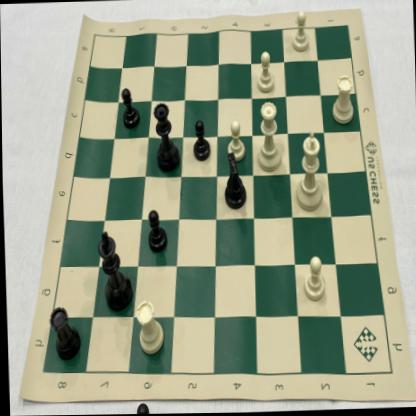black-king: (97, 228, 131, 312)
black-knight: (219, 152, 248, 211)
black-pawn: (119, 86, 142, 130), (144, 208, 167, 251), (191, 120, 212, 163)
black-queen: (151, 99, 181, 173)
black-rook: (47, 303, 78, 362)
white-king: (293, 131, 324, 214)
white-pawn: (301, 253, 327, 304), (254, 50, 276, 96), (289, 10, 310, 55), (225, 120, 246, 162)
white-queen: (253, 100, 283, 173)
white-rook: (134, 298, 165, 356), (329, 72, 357, 127)
